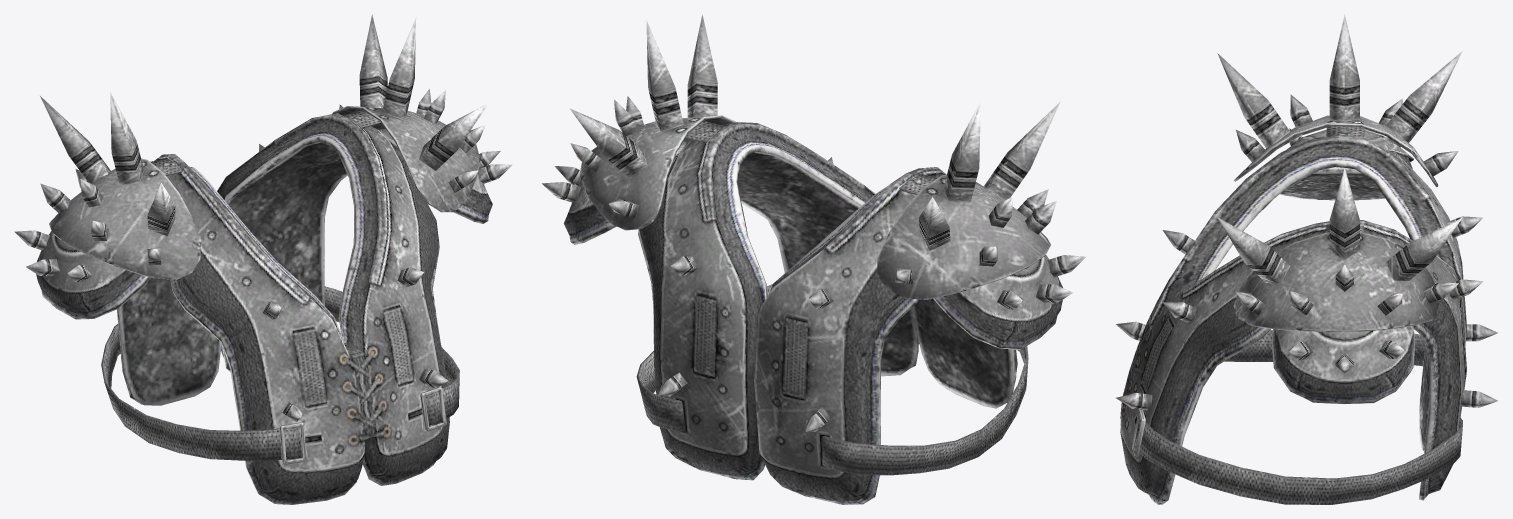
The model's file is SurvivorMale_Armor_FootballPads_Spiked_LOD0.glb.
3 views of the same model, side by side, from view 1: azimuth 30°, elevation 25°; view 2: azimuth 150°, elevation 25°; view 3: azimuth 270°, elevation 25° (orthographic). The views are drawn at different scales.
Parts seen in each view (by area): view 1: Hoodie; view 2: Hoodie; view 3: Hoodie.
Part boxes in pixels (x1,y1,x2,y2): Hoodie: (14,14,512,504); Hoodie: (542,14,1085,504); Hoodie: (1115,14,1497,504).
Bounding box in the file's own units: 0.6263 × 0.4628 × 0.4252.
1 material, 1 textured.
